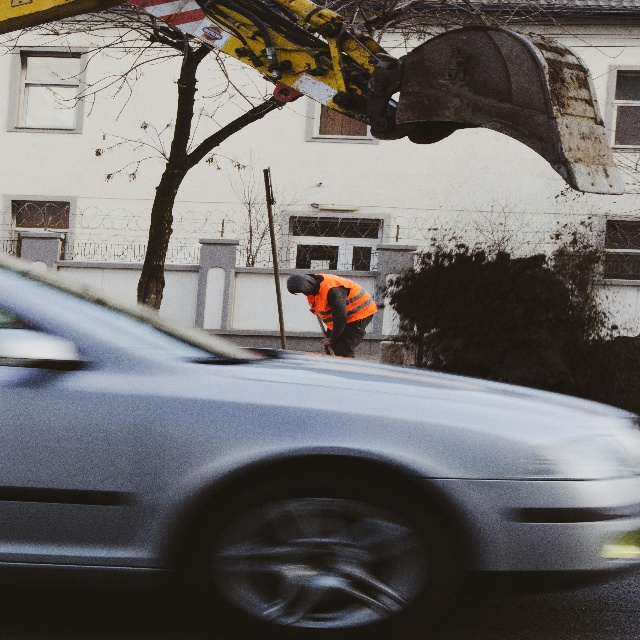Sin_guantes: (321, 337, 332, 347)
